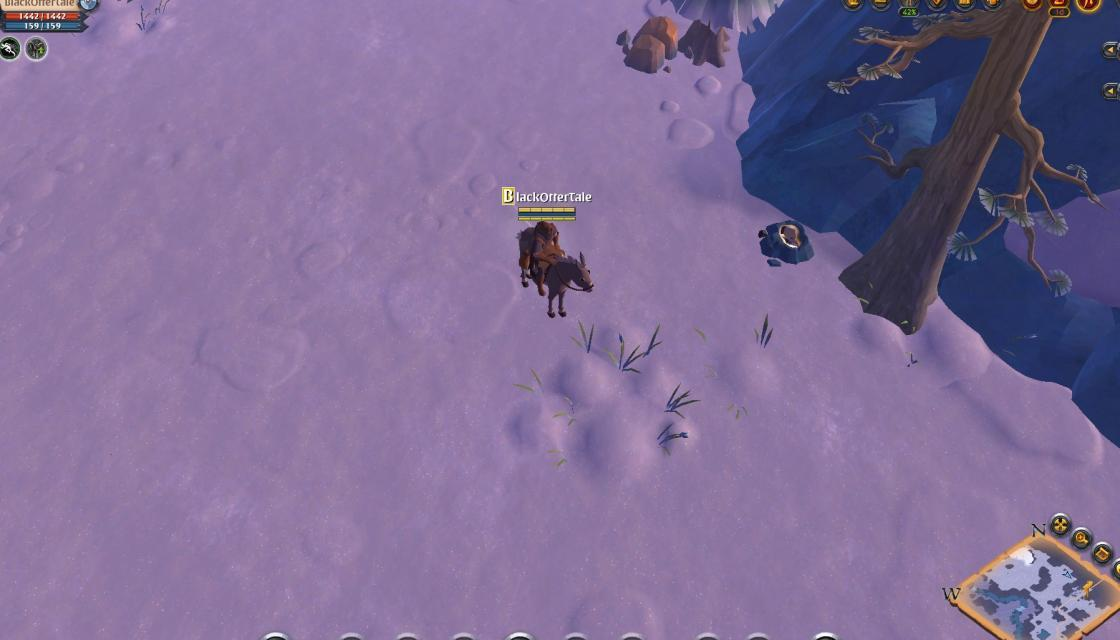limestone: (625, 12, 680, 72)
